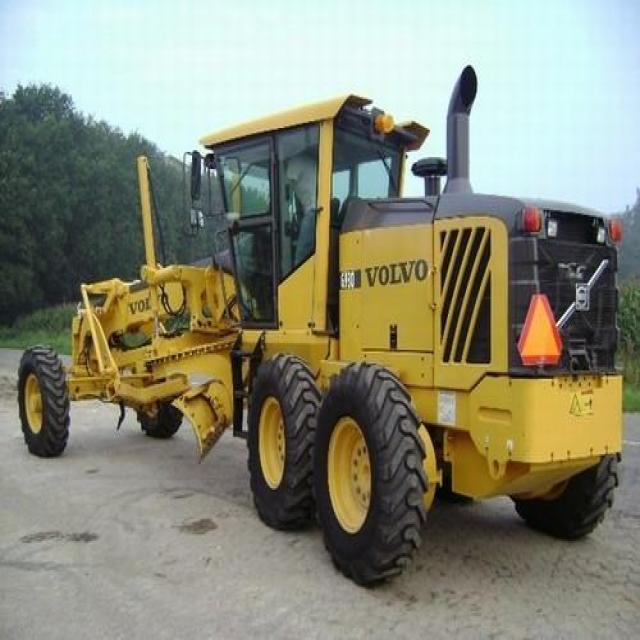buldozerpayloadergrader: (10, 84, 617, 587)
